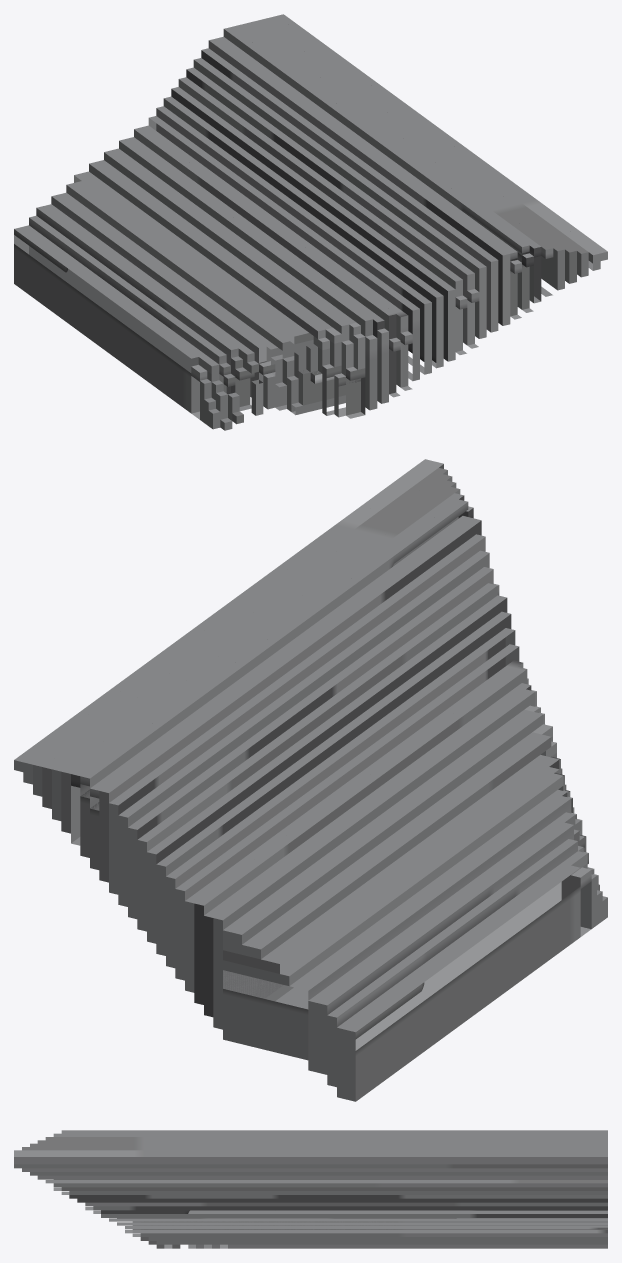
The picture shows the model from 3 angles, top to bottom: view 1: azimuth 30°, elevation 25°; view 2: azimuth 150°, elevation 25°; view 3: azimuth 270°, elevation 25°; orthographic projection. The views are drawn at different scales.
Size of the model in its own units: 1.13 by 0.8125 by 2.34.
